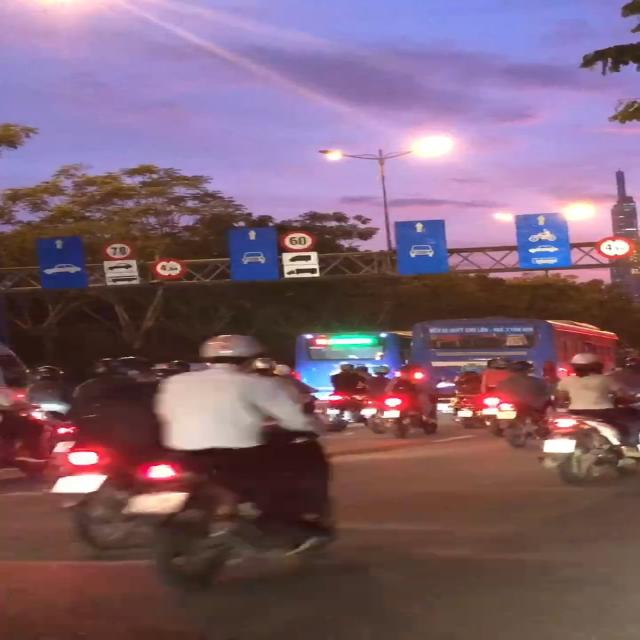Bien bao han che chieu cao: (152, 257, 186, 281)
